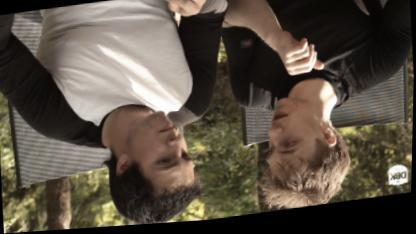knife: (327, 0, 376, 32)
